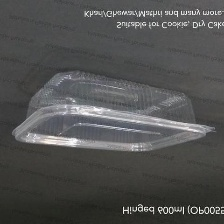plastic_box: (5, 63, 222, 162)
